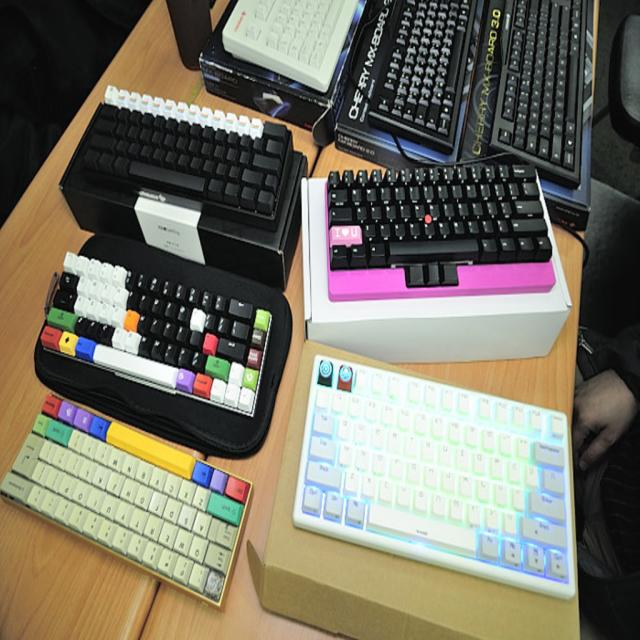desk: (3, 3, 570, 637)
keyboard: (290, 354, 579, 597), (33, 232, 290, 458), (59, 85, 307, 289), (306, 156, 564, 308)
